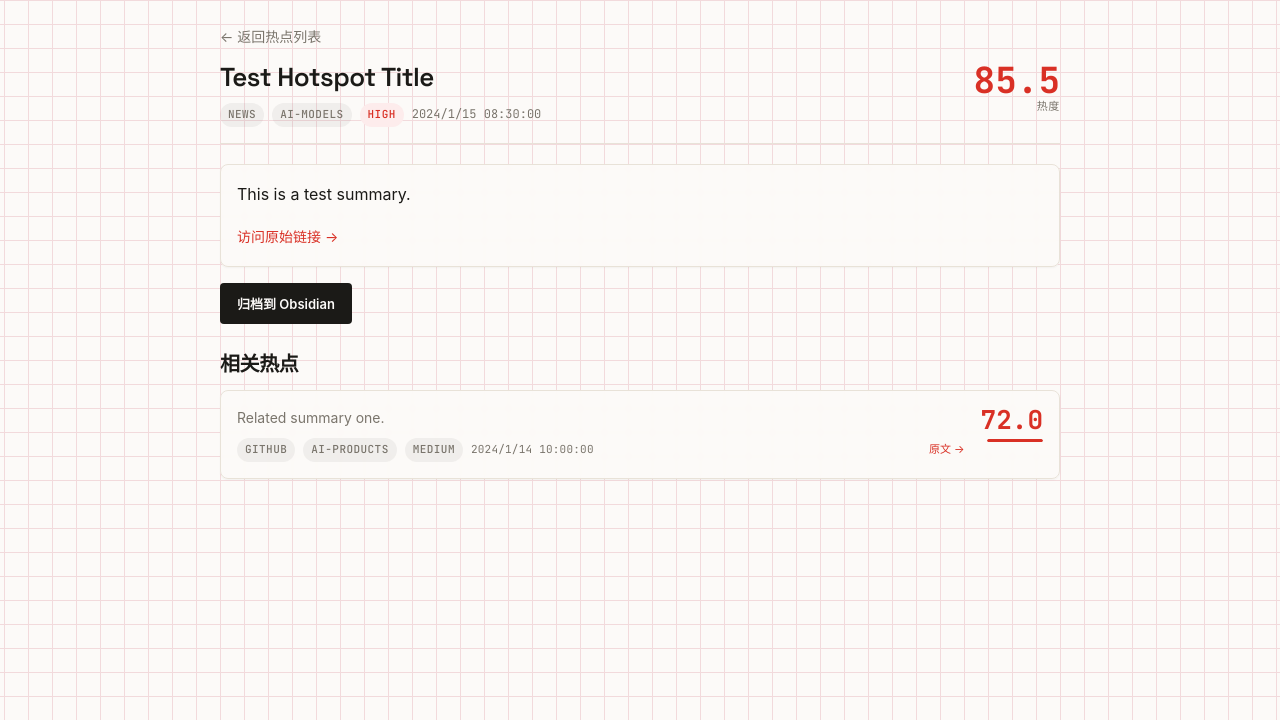
HotspotDetailView › shows archive success hint after successful archive
Click the button "归档到 Obsidian".
click(286, 303)  # box [220, 283, 352, 324]
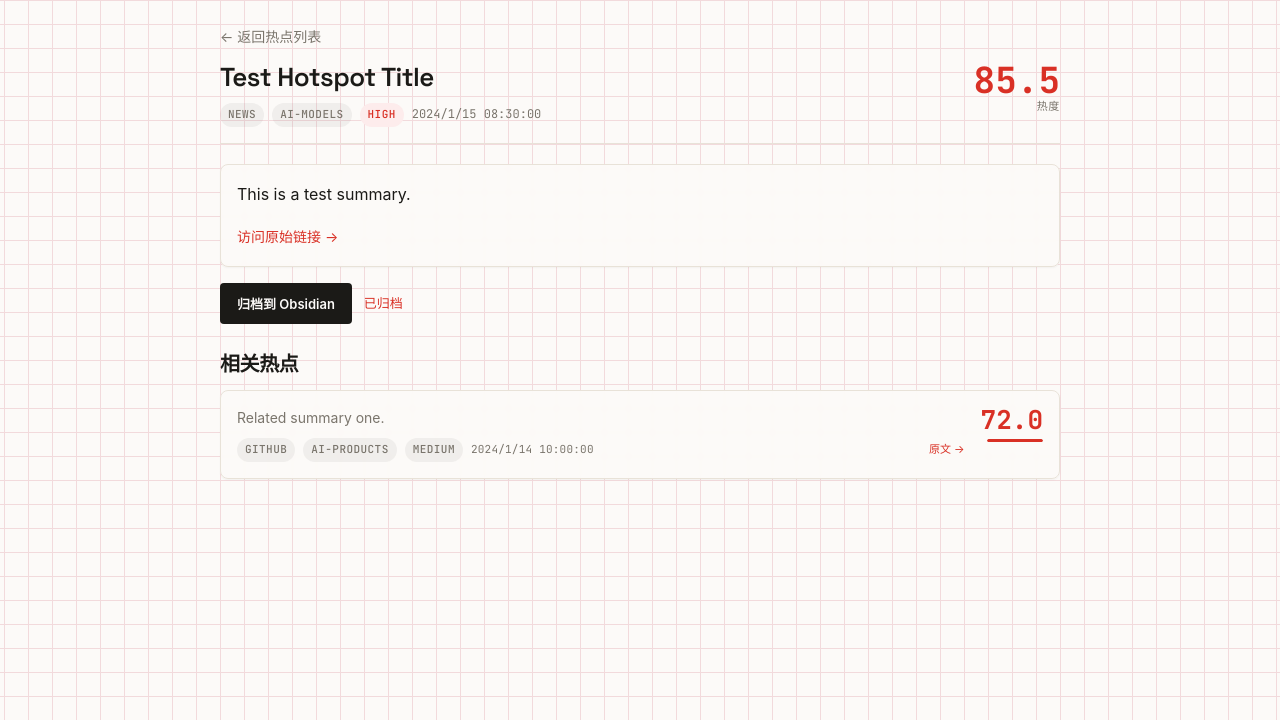
Now the message "已归档" is shown, box [364, 293, 403, 314]
Now the message with class "archive-hint" reads "已归档", box [364, 295, 403, 311]
